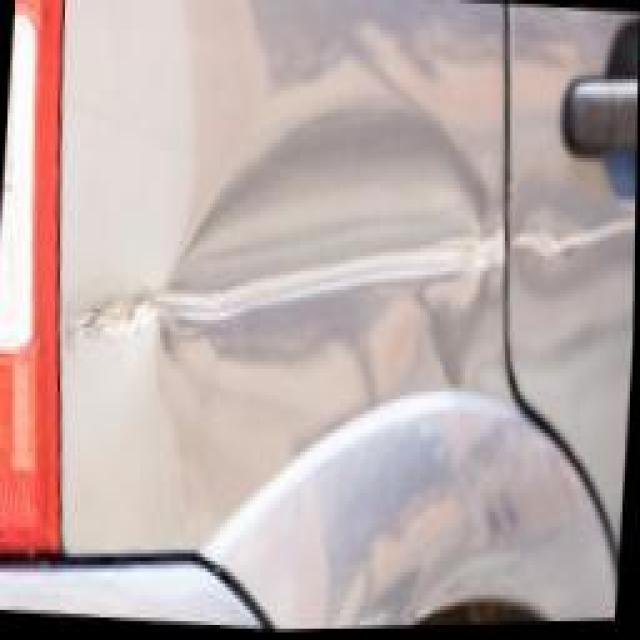Fender: (32, 0, 568, 541)
